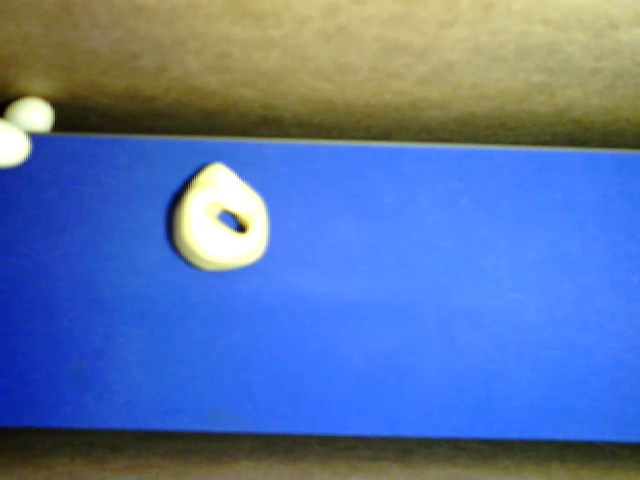tortellini: (173, 161, 271, 270)
